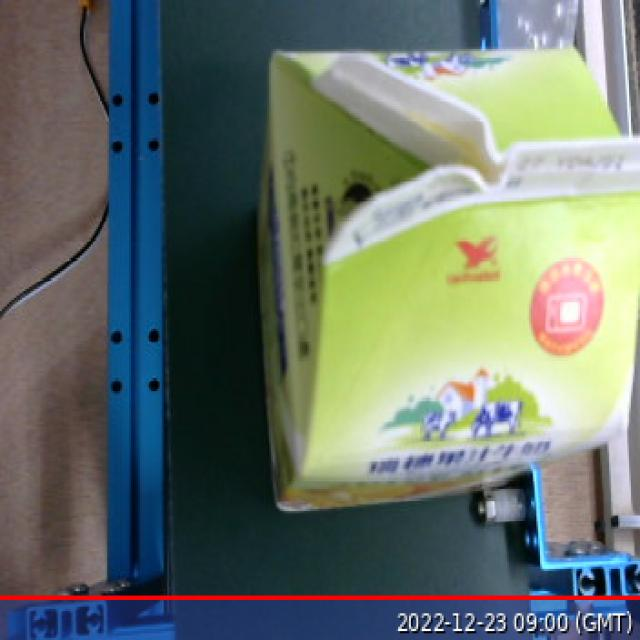non_white_jug: (246, 24, 640, 528)
